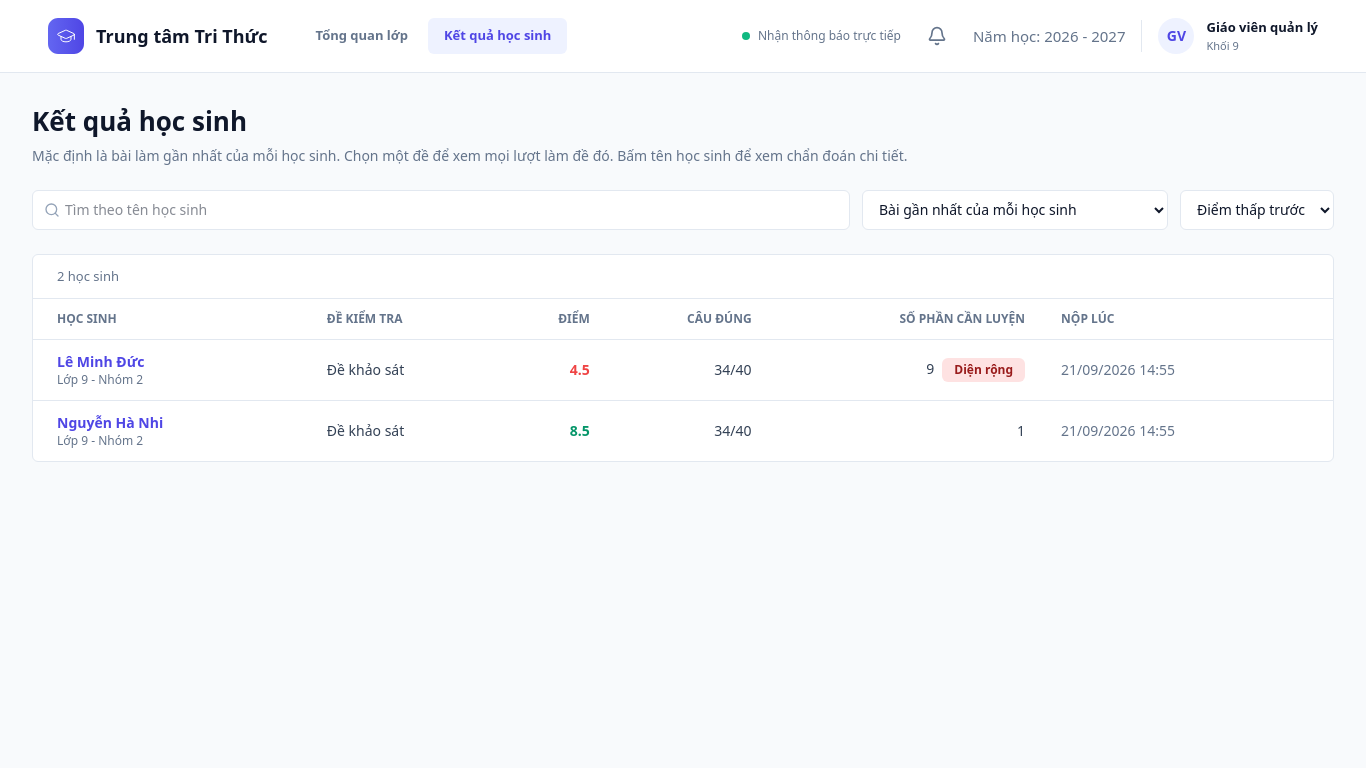
it: kết quả học sinh: bảng cả lớp, tìm theo tên không dấu, bấm tên mở chẩn đoán
The width and height of the screenshot is (1366, 768).
Check: the text "2 học sinh" is shown, box [57, 266, 119, 284]
Type "ha nhi" into the search field named "Tìm học sinh" at (441, 210), box [32, 190, 850, 230]
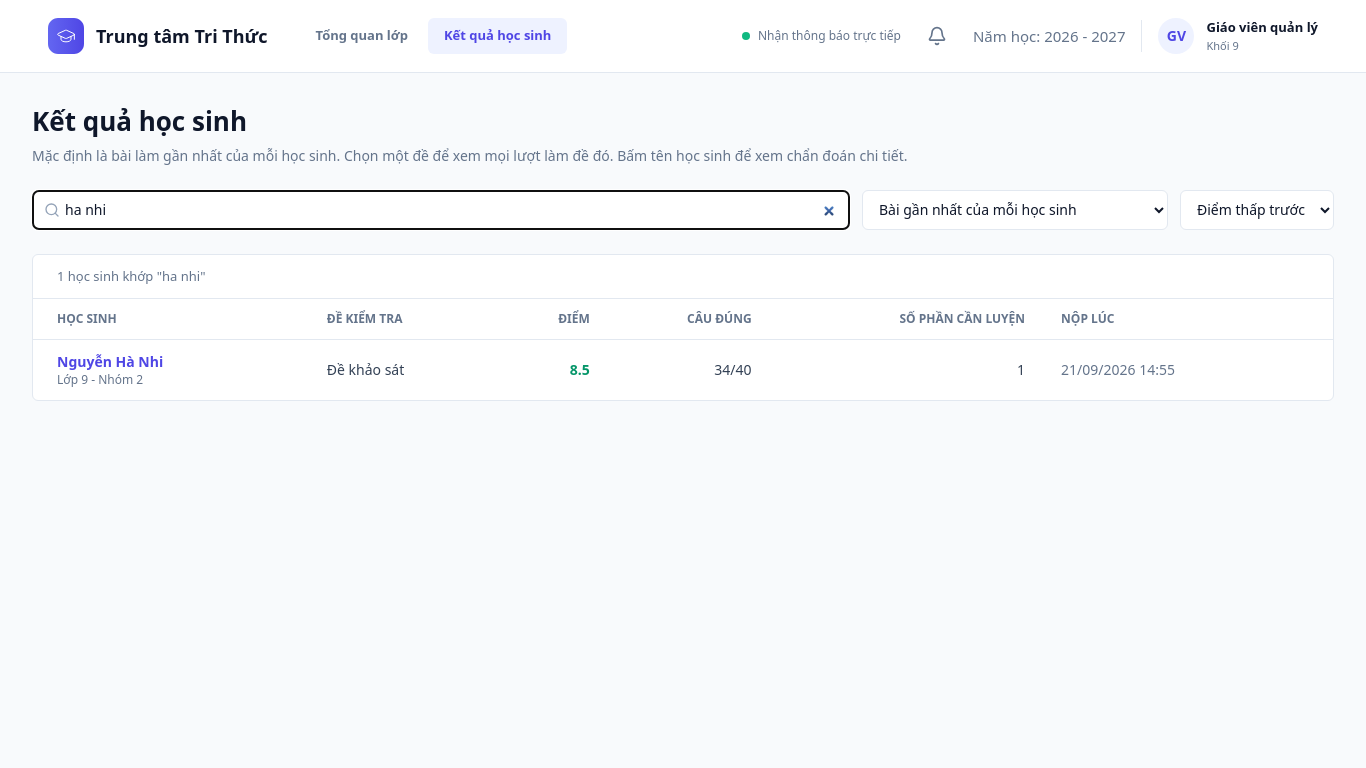
Check: the link "Lê Minh Đức" is gone
Click the link "Nguyễn Hà Nhi" at (110, 362), box [57, 352, 163, 371]
(page scrolled)
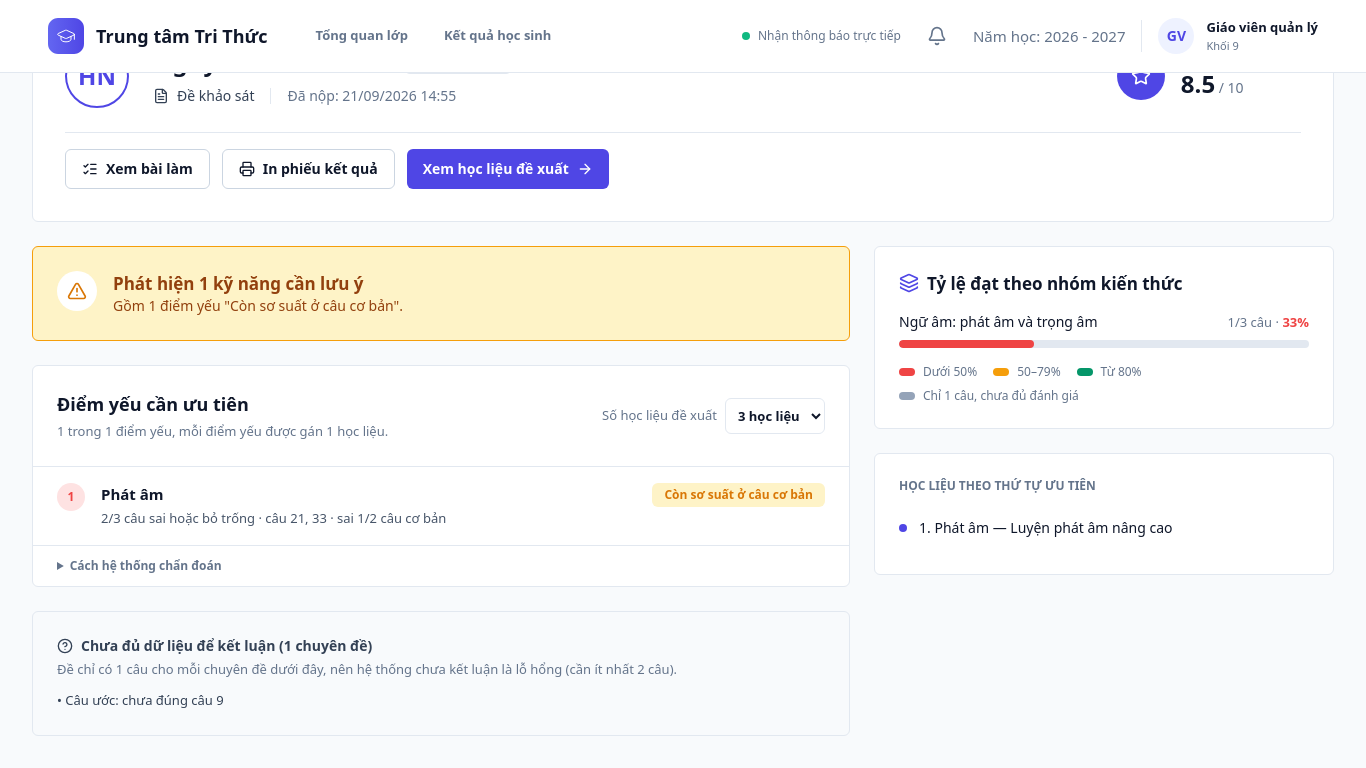
Check: the text "Phát hiện 1 kỹ năng cần lưu ý" is shown, box [113, 270, 403, 296]
Check: the text "2/3 câu sai hoặc bỏ trống · câu 21, 33 · sai 1/2 câu cơ bản" is shown, box [101, 509, 446, 527]
Check: the text "1. Phát âm — Luyện phát âm nâng cao" is shown, box [919, 518, 1172, 538]
